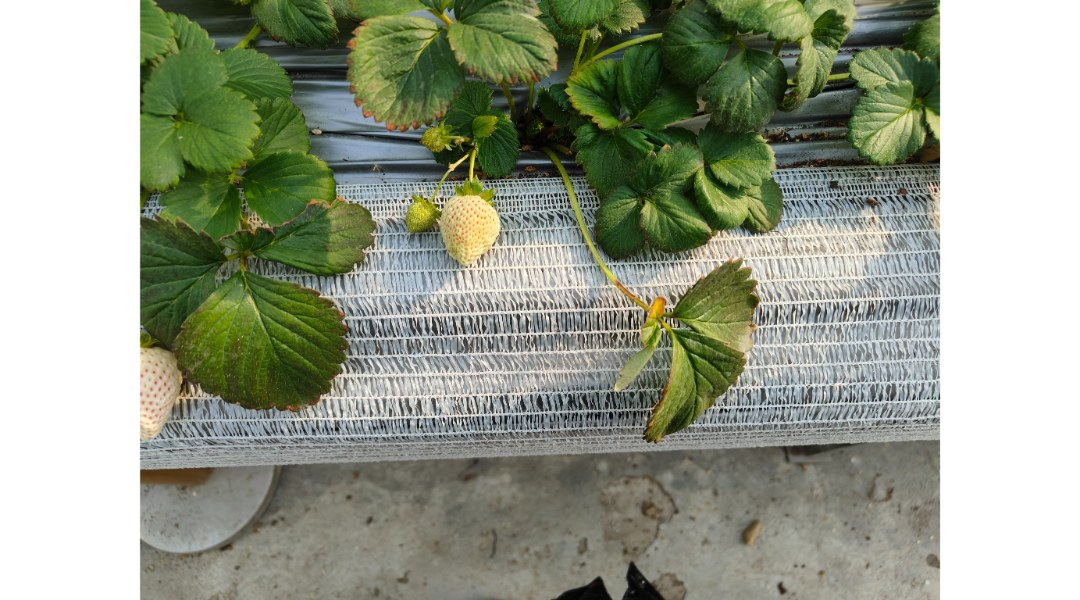berry: (438, 176, 503, 277), (398, 195, 440, 232)
strain: (558, 190, 645, 304), (584, 27, 668, 69), (536, 148, 577, 190)
